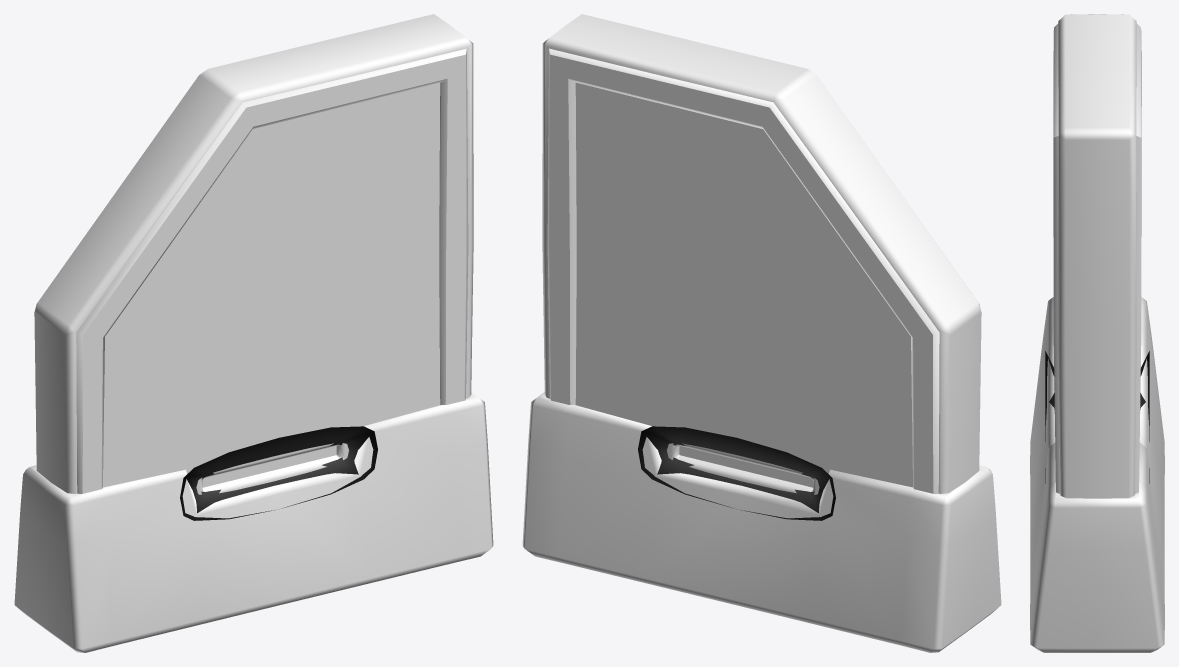
The model's file is HatCoBarrierSlopeVisual.glb.
The picture shows the model from 3 angles, left to right: view 1: azimuth 30°, elevation 25°; view 2: azimuth 150°, elevation 25°; view 3: azimuth 270°, elevation 25°; orthographic projection. The views are drawn at different scales.
Visible parts, largest first — view 1: BarrierHologram, HatCoBarrierGlow; view 2: BarrierHologram, HatCoBarrierGlow; view 3: BarrierHologram, HatCoBarrierGlow.
Boxes of the visible parts, bbox=[...] form: BarrierHologram: bbox=[14, 14, 493, 652]; HatCoBarrierGlow: bbox=[180, 426, 377, 520]; BarrierHologram: bbox=[522, 14, 1001, 652]; HatCoBarrierGlow: bbox=[638, 426, 835, 520]; BarrierHologram: bbox=[1030, 14, 1164, 652]; HatCoBarrierGlow: bbox=[1045, 351, 1149, 483].
Bounding box in the file's own units: 1.05 × 1.22 × 0.2854.
4 materials, 3 textured.
